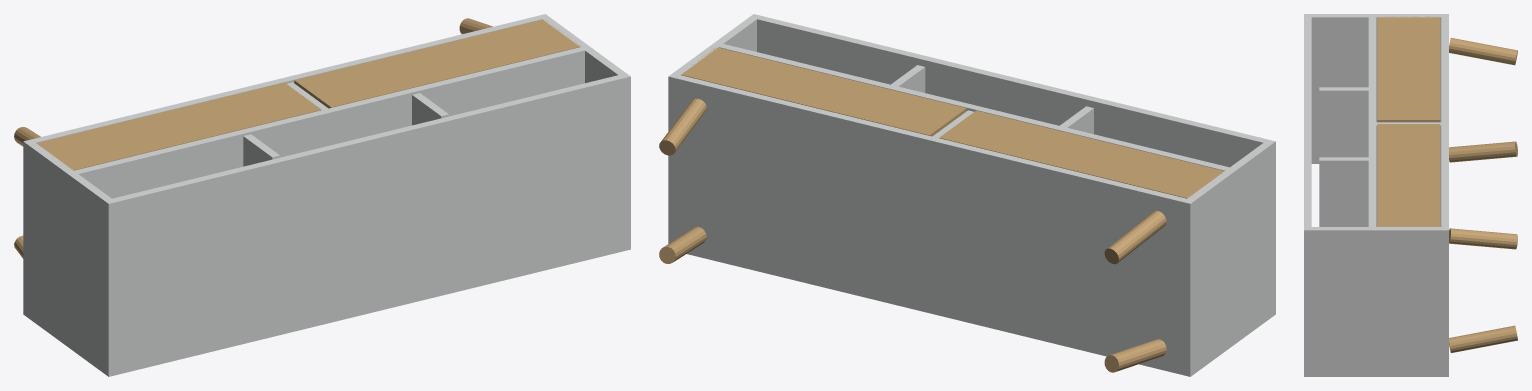
Rendered from product_01_nordic_nightstand.glb.
3 views of the same model, side by side, from view 1: azimuth 30°, elevation 25°; view 2: azimuth 150°, elevation 25°; view 3: azimuth 270°, elevation 25° (orthographic). The views are drawn at different scales.
Parts seen in each view (by area): view 1: geometry_0; view 2: geometry_0; view 3: geometry_0.
Boxes of the visible parts, x1=… form: geometry_0: x1=14, y1=14, x2=630, y2=376; geometry_0: x1=659, y1=14, x2=1275, y2=376; geometry_0: x1=1304, y1=14, x2=1517, y2=376.
Size of the model in its own units: 1.2 by 0.38 by 0.5019.
